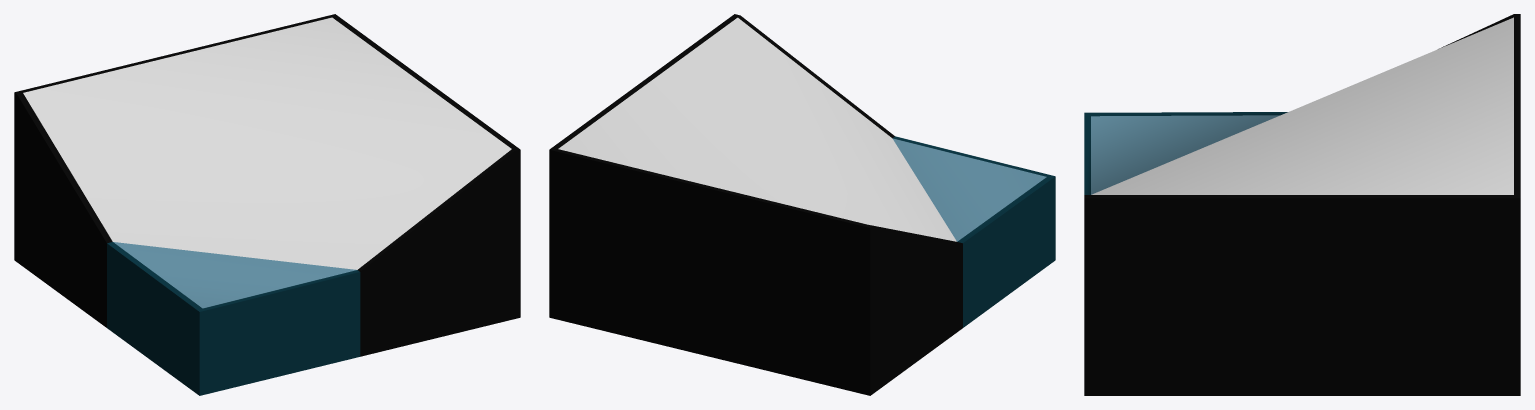
Rendered from Agua_15.fbx.
3 views of the same model, side by side, from view 1: azimuth 30°, elevation 25°; view 2: azimuth 150°, elevation 25°; view 3: azimuth 270°, elevation 25° (orthographic). The views are drawn at different scales.
Visible parts, largest first — view 1: pCube4; view 2: pCube4; view 3: pCube4.
Part boxes in pixels (x1,y1,x2,y2): pCube4: (14, 14, 520, 395); pCube4: (549, 14, 1055, 395); pCube4: (1084, 14, 1520, 395).
Size of the model in its own units: 200 by 100 by 200.
